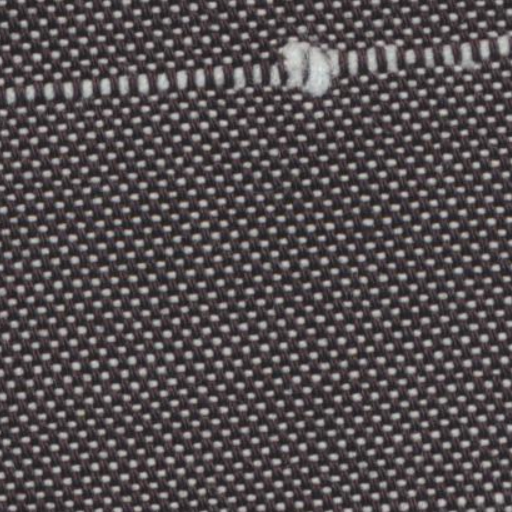DaiSha: (16, 34, 496, 98)
